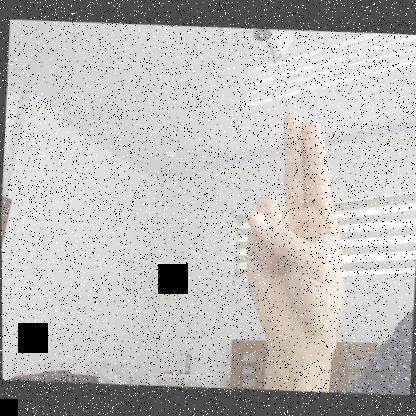U: (235, 110, 357, 357)
